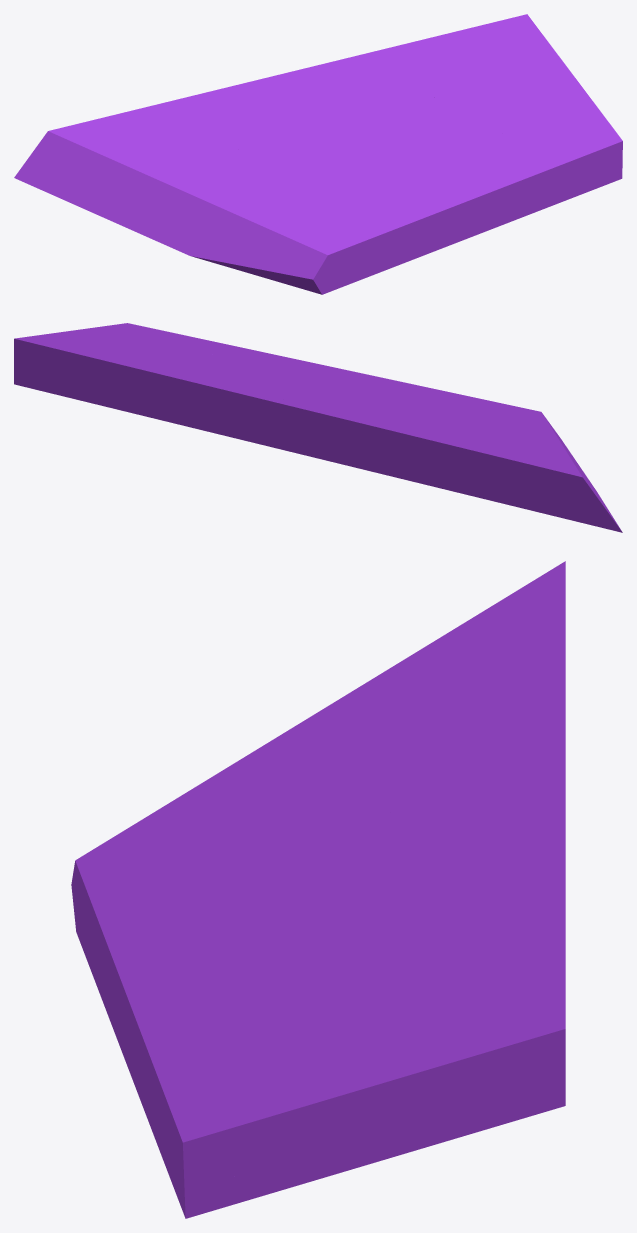
File: Window_159_2_chunks.fbx
The picture shows the model from 3 angles, top to bottom: view 1: azimuth 30°, elevation 25°; view 2: azimuth 150°, elevation 25°; view 3: azimuth 270°, elevation 25°; orthographic projection. The views are drawn at different scales.
Visible parts, largest first — view 1: Window_159_2_7, Window_159_2_6, Window_159_2_8, Window_159_2_9, Window_159_2_27, Window_159_2_4, Window_159_2_29, Window_159_2_1, Window_159_2_2, Window_159_2_0, Window_159_2_21, Window_159_2_13 (+10 smaller); view 2: Window_159_2_8, Window_159_2_13, Window_159_2_16, Window_159_2_7, Window_159_2_21, Window_159_2_9, Window_159_2_15, Window_159_2_4, Window_159_2_0, Window_159_2_17, Window_159_2_29, Window_159_2_6 (+8 smaller); view 3: Window_159_2_9, Window_159_2_8, Window_159_2_7, Window_159_2_4, Window_159_2_29, Window_159_2_6, Window_159_2_0, Window_159_2_21, Window_159_2_1, Window_159_2_22, Window_159_2_13, Window_159_2_2 (+8 smaller).
Part boxes in pixels (x1,y1,x2,y2): Window_159_2_7: (334, 83, 513, 200); Window_159_2_6: (204, 191, 383, 294); Window_159_2_8: (378, 14, 559, 97); Window_159_2_9: (501, 57, 622, 177); Window_159_2_27: (14, 137, 159, 229); Window_159_2_4: (256, 150, 415, 273); Window_159_2_29: (146, 144, 262, 202); Window_159_2_1: (470, 152, 622, 237); Window_159_2_2: (395, 183, 491, 266); Window_159_2_0: (146, 92, 273, 149); Window_159_2_21: (297, 45, 400, 110); Window_159_2_13: (30, 107, 161, 155); Window_159_2_8: (14, 333, 240, 409); Window_159_2_13: (459, 447, 604, 528); Window_159_2_16: (195, 383, 351, 459); Window_159_2_7: (216, 355, 398, 402); Window_159_2_21: (117, 375, 324, 431); Window_159_2_9: (53, 323, 271, 356); Window_159_2_15: (295, 407, 375, 462); Window_159_2_4: (386, 385, 497, 424); Window_159_2_0: (359, 414, 465, 456); Window_159_2_17: (335, 447, 430, 483); Window_159_2_29: (442, 422, 570, 456); Window_159_2_6: (463, 395, 586, 476); Window_159_2_9: (153, 1014, 466, 1156); Window_159_2_8: (376, 887, 565, 1134); Window_159_2_7: (157, 853, 481, 1036); Window_159_2_4: (95, 774, 386, 1000); Window_159_2_29: (267, 662, 462, 785); Window_159_2_6: (71, 746, 278, 982); Window_159_2_0: (389, 656, 565, 784); Window_159_2_21: (422, 807, 565, 905); Window_159_2_1: (130, 1014, 287, 1218); Window_159_2_22: (326, 810, 484, 873); Window_159_2_13: (468, 561, 565, 676); Window_159_2_2: (102, 926, 170, 1072).
Bounding box in the file's own units: 1397 × 289 × 582.
